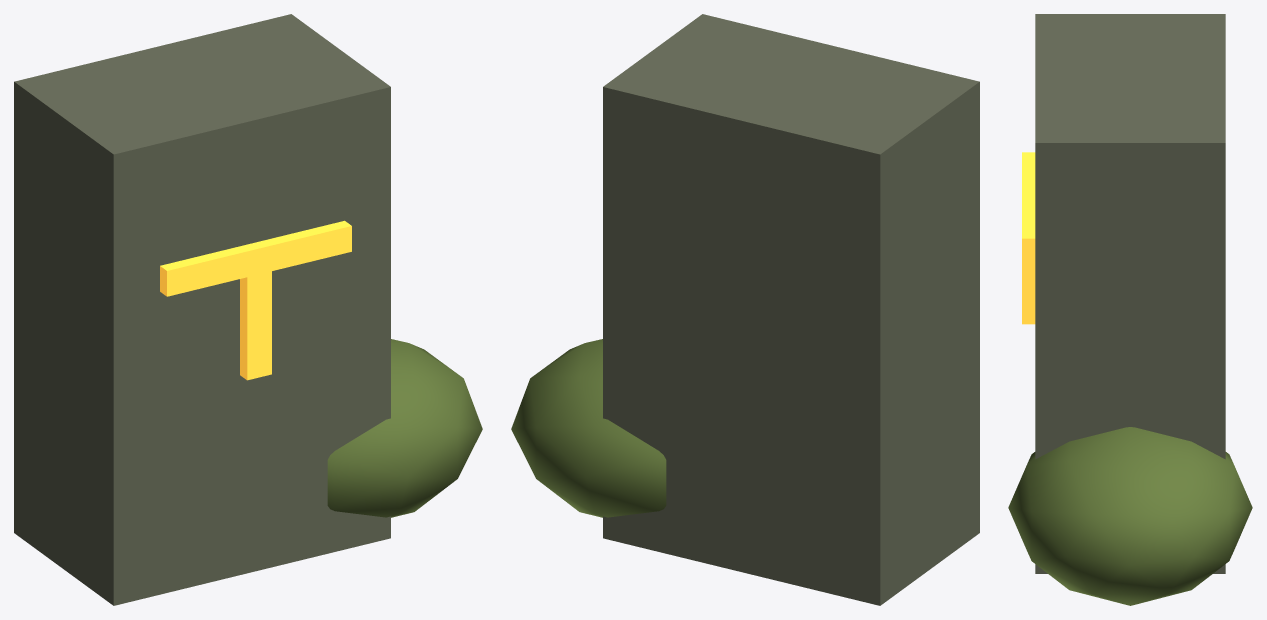
The model's file is waystone.glb.
3 views of the same model, side by side, from view 1: azimuth 30°, elevation 25°; view 2: azimuth 150°, elevation 25°; view 3: azimuth 270°, elevation 25° (orthographic). The views are drawn at different scales.
Parts seen in each view (by area): view 1: Body; view 2: Body; view 3: Body.
Boxes of the visible parts, bbox=[...] form: Body: bbox=[14, 14, 482, 605]; Body: bbox=[511, 14, 979, 605]; Body: bbox=[1008, 14, 1252, 605].
Bounding box in the file's own units: 0.655 × 0.72 × 0.36.
